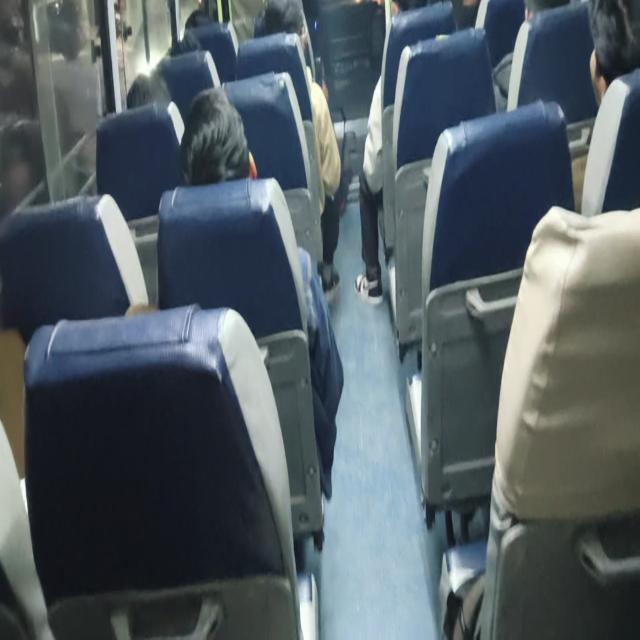person: (178, 85, 344, 501), (354, 0, 456, 306), (254, 0, 341, 292), (567, 0, 638, 212), (493, 0, 570, 112), (178, 86, 258, 186), (588, 0, 639, 108), (0, 119, 45, 219)
